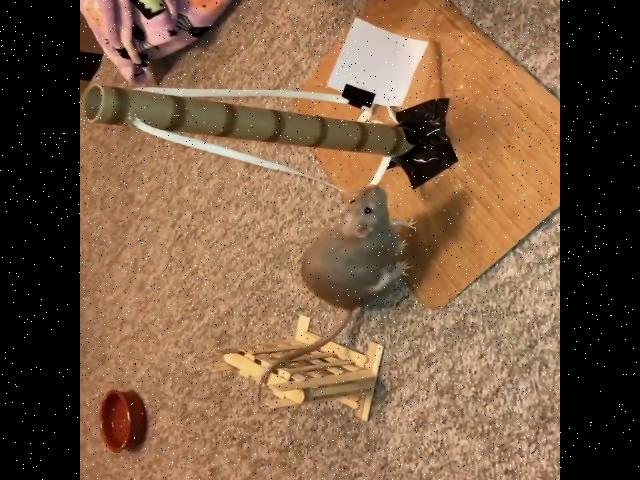Tikus: (298, 181, 416, 323)
